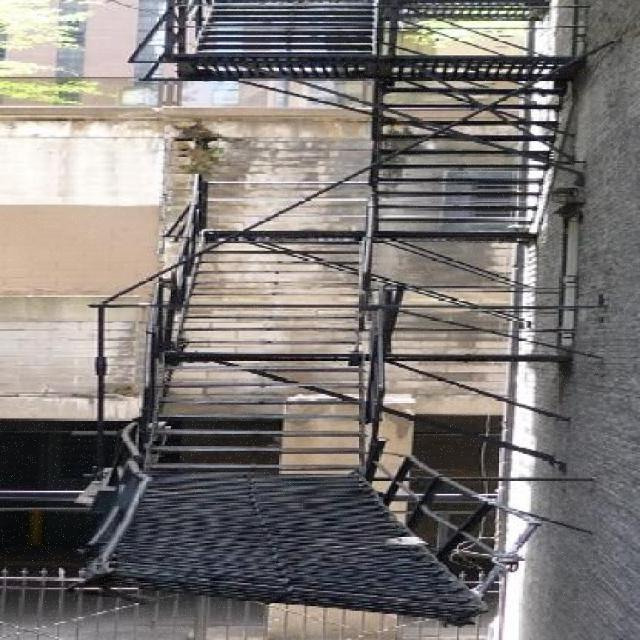stair: (65, 0, 608, 628)
